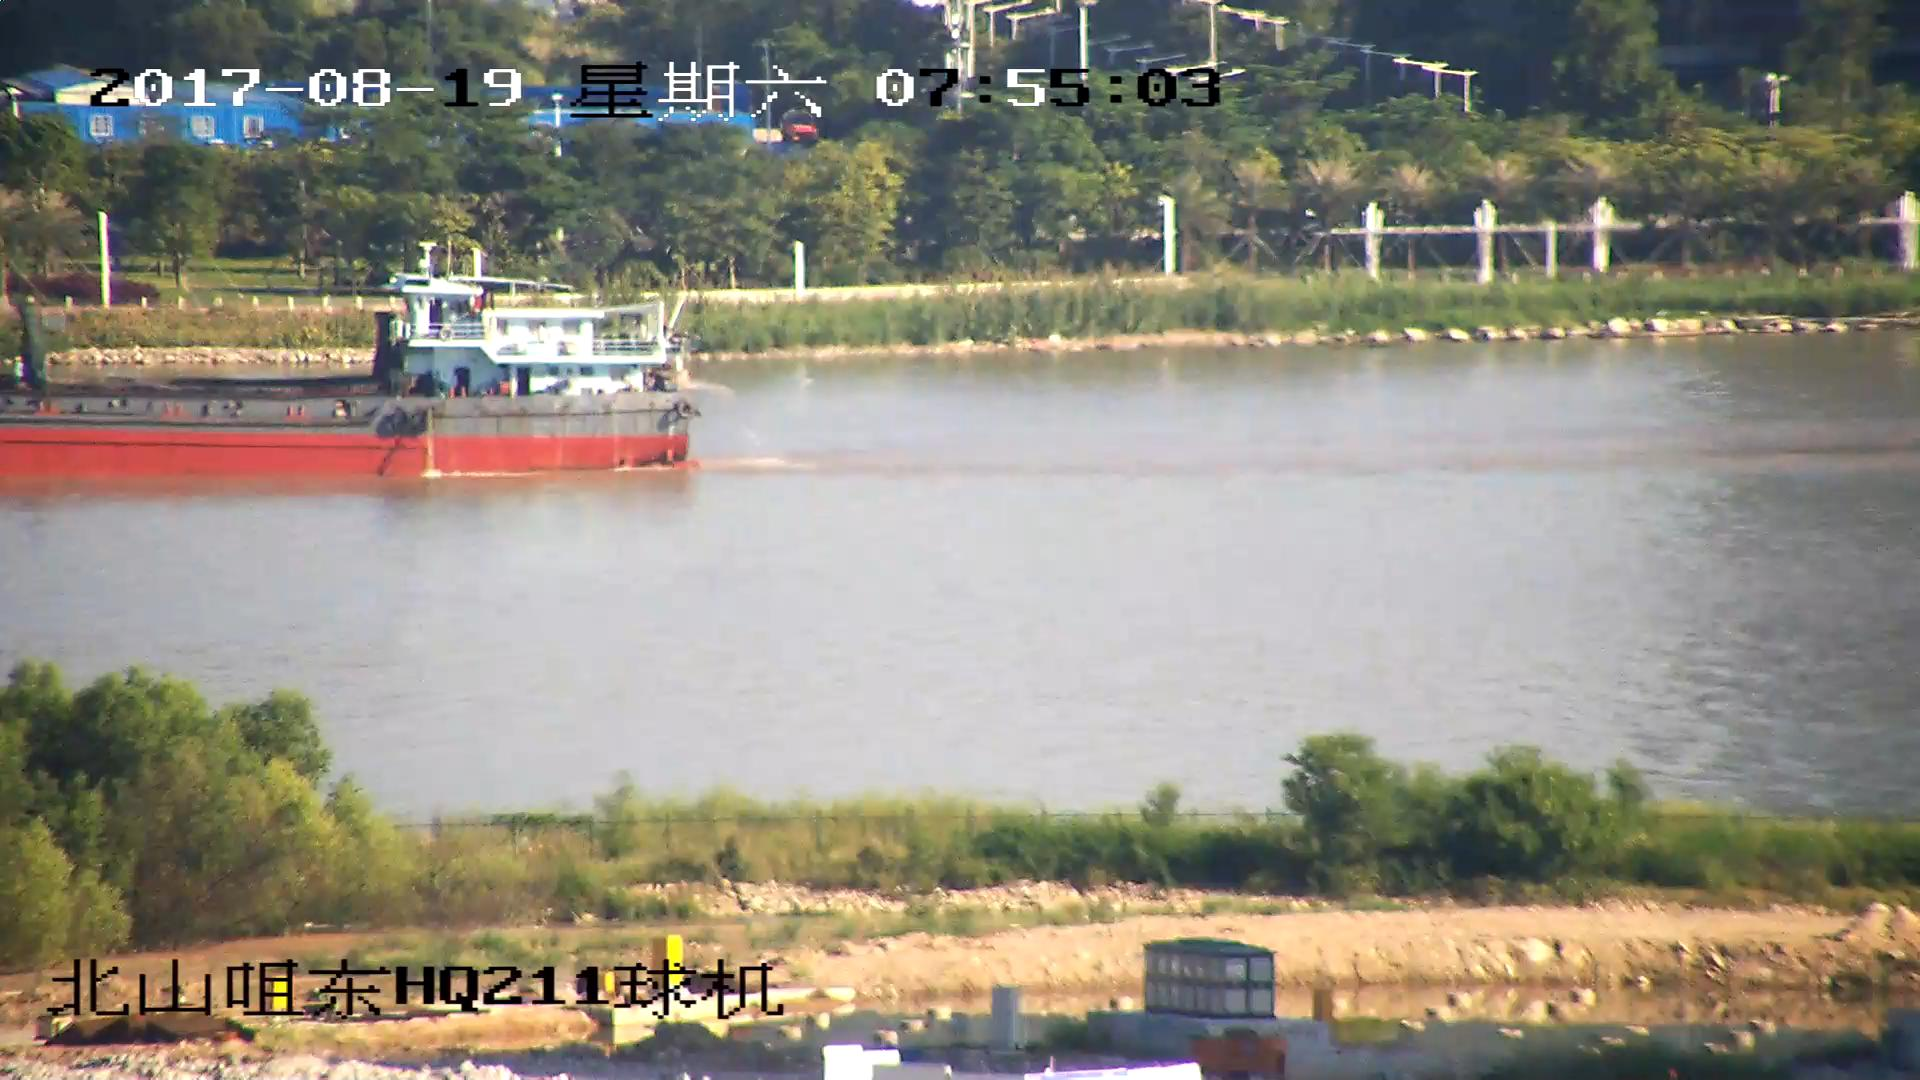bulk cargo carrier: (1, 268, 704, 476)
